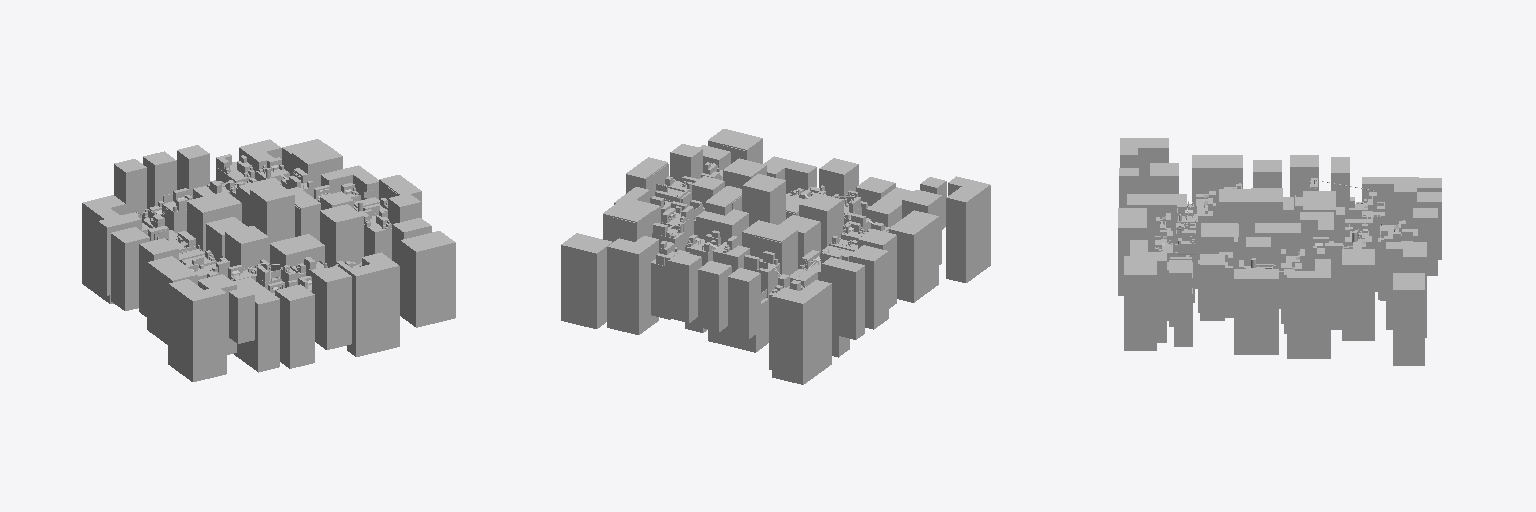
The model's file is 基本素模.obj.
3 views of the same model, side by side, from view 1: azimuth 30°, elevation 25°; view 2: azimuth 150°, elevation 25°; view 3: azimuth 270°, elevation 25° (orthographic).
Parts seen in each view (by area): view 1: 立方體.048_立方體.063, 立方體.084, 立方體.003_立方體.044, 立方體.030_立方體.032, 立方體.015_立方體.045, 立方體.016_立方體.046, 立方體.067_立方體.025, 立方體.046_立方體.061, 立方體.066_立方體.023, 立方體.031_立方體.054, 立方體.047_立方體.062, 立方體.042_立方體.057 (+23 smaller); view 2: 立方體.047_立方體.062, 立方體.048_立方體.063, 立方體.071_立方體.033, 立方體.073_立方體.036, 立方體.031_立方體.054, 立方體.045_立方體.060, 立方體.085, 立方體.046_立方體.061, 立方體.087, 立方體.086, 立方體.042_立方體.057, 立方體.066_立方體.023 (+27 smaller); view 3: 立方體.077, 立方體.081, 立方體.084, 立方體.072_立方體.035, 立方體.073_立方體.036, 立方體.031_立方體.054, 立方體.047_立方體.062, 立方體.071_立方體.033, 立方體.082, 立方體.048_立方體.063, 立方體.083, 立方體.016_立方體.046 (+22 smaller).
Part boxes in pixels (left/top/right/bottom): 立方體.048_立方體.063: left=168, top=279, right=226, bottom=381; 立方體.084: left=400, top=231, right=455, bottom=327; 立方體.003_立方體.044: left=347, top=252, right=399, bottom=356; 立方體.030_立方體.032: left=312, top=266, right=351, bottom=349; 立方體.015_立方體.045: left=275, top=284, right=314, bottom=368; 立方體.016_立方體.046: left=233, top=277, right=279, bottom=372; 立方體.067_立方體.025: left=320, top=204, right=363, bottom=267; 立方體.046_立方體.061: left=111, top=227, right=149, bottom=310; 立方體.066_立方體.023: left=250, top=183, right=294, bottom=262; 立方體.031_立方體.054: left=147, top=256, right=197, bottom=344; 立方體.047_立方體.062: left=82, top=195, right=125, bottom=303; 立方體.042_立方體.057: left=187, top=191, right=241, bottom=251; 立方體.047_立方體.062: left=772, top=280, right=831, bottom=384; 立方體.048_立方體.063: left=946, top=176, right=990, bottom=282; 立方體.071_立方體.033: left=607, top=236, right=658, bottom=334; 立方體.073_立方體.036: left=561, top=233, right=612, bottom=328; 立方體.031_立方體.054: left=889, top=210, right=938, bottom=302; 立方體.045_立方體.060: left=822, top=257, right=864, bottom=339; 立方體.085: left=728, top=268, right=760, bottom=338; 立方體.046_立方體.061: left=849, top=245, right=888, bottom=329; 立方體.087: left=668, top=252, right=701, bottom=322; 立方體.086: left=698, top=261, right=731, bottom=331; 立方體.042_立方體.057: left=742, top=220, right=797, bottom=275; 立方體.066_立方體.023: left=742, top=174, right=785, bottom=226; 立方體.077: left=1287, top=259, right=1330, bottom=358; 立方體.081: left=1234, top=269, right=1278, bottom=354; 立方體.084: left=1124, top=256, right=1156, bottom=350; 立方體.072_立方體.035: left=1342, top=249, right=1374, bottom=340; 立方體.073_立方體.036: left=1393, top=273, right=1424, bottom=365; 立方體.031_立方體.054: left=1192, top=155, right=1242, bottom=222; 立方體.047_立方體.062: left=1362, top=177, right=1418, bottom=228; 立方體.071_立方體.033: left=1386, top=242, right=1426, bottom=337; 立方體.082: left=1200, top=254, right=1224, bottom=320; 立方體.048_立方體.063: left=1120, top=138, right=1168, bottom=193; 立方體.083: left=1169, top=260, right=1191, bottom=326; 立方體.016_立方體.046: left=1127, top=194, right=1186, bottom=256.
Bounding box in the file's own units: 33.76 × 14.88 × 33.05.